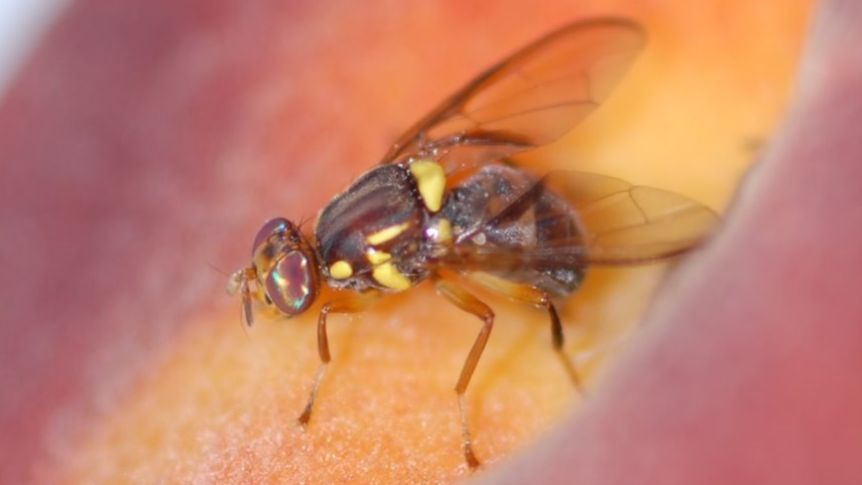Fruit fly: (226, 48, 708, 404)
